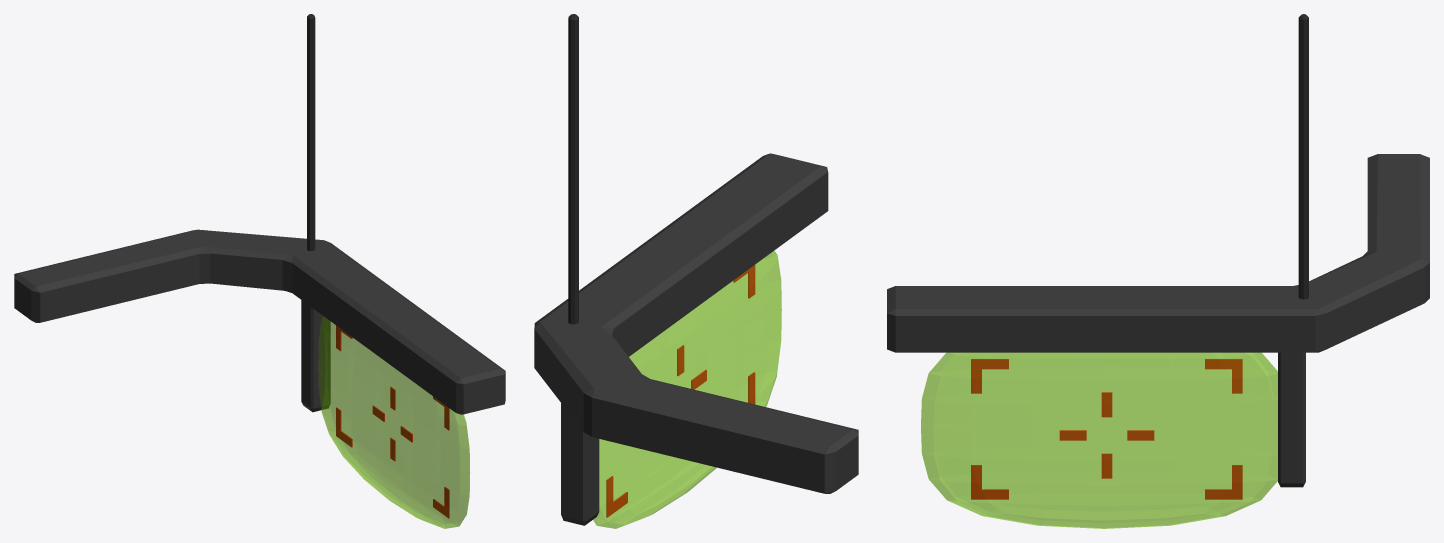
File: TargetLockVisor.fbx
3 views of the same model, side by side, from view 1: azimuth 30°, elevation 25°; view 2: azimuth 150°, elevation 25°; view 3: azimuth 270°, elevation 25° (orthographic). The views are drawn at different scales.
Parts seen in each view (by area): view 1: Frame, Visor; view 2: Frame, Visor; view 3: Visor, Frame.
Part boxes in pixels (x1=…): Frame: x1=14, y1=14, x2=505, y2=518; Visor: x1=318, y1=316, x2=469, y2=528; Frame: x1=534, y1=14, x2=858, y2=525; Visor: x1=593, y1=250, x2=781, y2=528; Visor: x1=921, y1=352, x2=1277, y2=528; Frame: x1=887, y1=14, x2=1429, y2=499.
Size of the model in its own units: 335 by 499 by 478.
3 materials, 2 textured.
